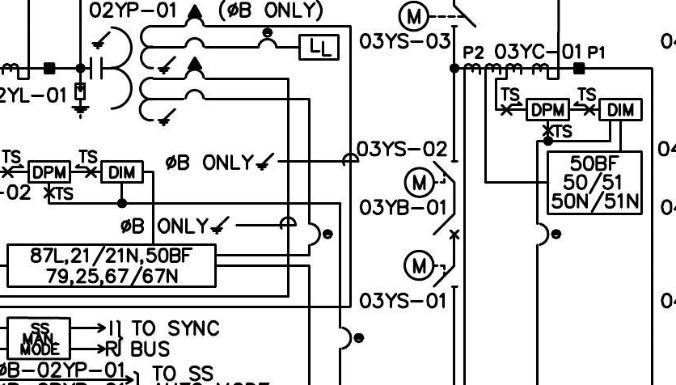115_1way_ds_w_motor: (402, 249, 459, 288), (403, 160, 459, 199)
115_breaker: (432, 213, 460, 240)
115_cvt_1p: (89, 4, 207, 127)
115_la: (71, 82, 90, 120)
DIM: (598, 97, 643, 121), (100, 160, 144, 184)
DPM: (525, 97, 571, 122), (27, 160, 71, 184)
LL: (298, 34, 340, 61)
ss_man_mode: (6, 316, 72, 360)
